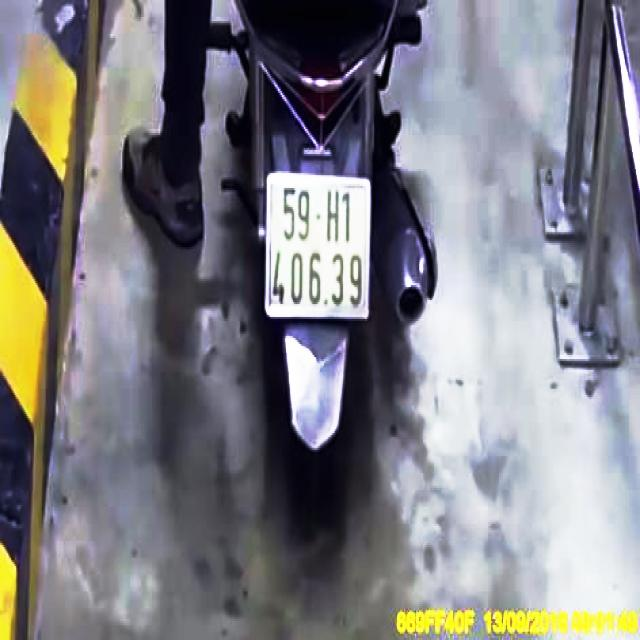license_plate: (269, 179, 368, 317)
